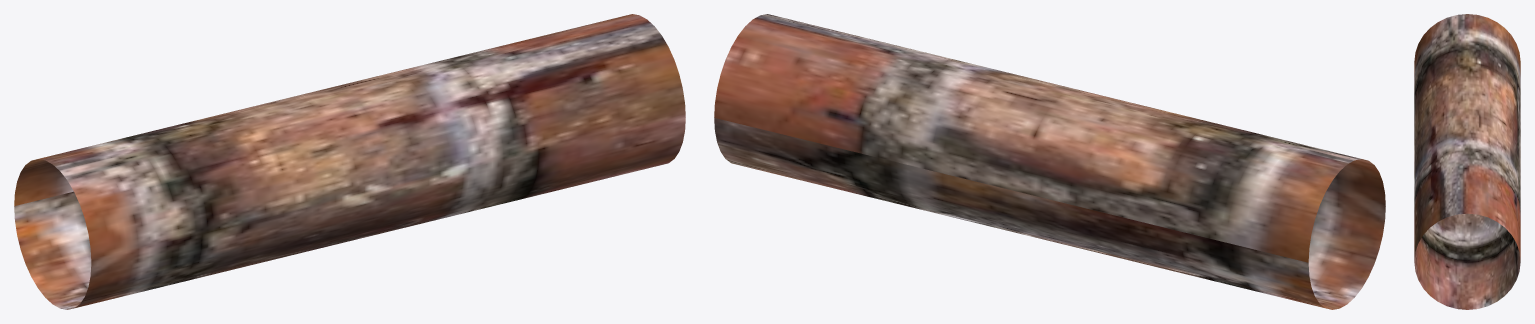
File: Long_Straight_Sewer_01.fbx
3 views of the same model, side by side, from view 1: azimuth 30°, elevation 25°; view 2: azimuth 150°, elevation 25°; view 3: azimuth 270°, elevation 25° (orthographic). The views are drawn at different scales.
Visible parts, largest first — view 1: Cylinder.001; view 2: Cylinder.001; view 3: Cylinder.001.
Part boxes in pixels (bbox=[...]): Cylinder.001: bbox=[14, 14, 685, 309]; Cylinder.001: bbox=[714, 14, 1385, 309]; Cylinder.001: bbox=[1414, 14, 1520, 309].
Size of the model in its own units: 4000 by 900 by 900.
